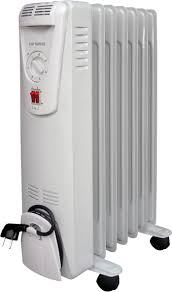Radiator: (14, 1, 169, 291)
